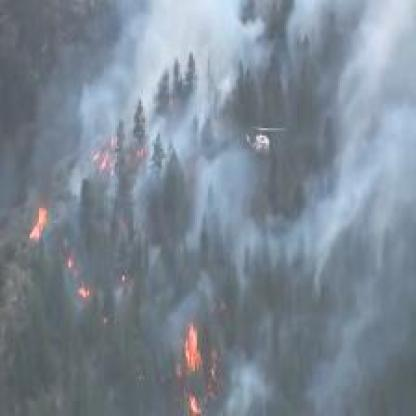fire: (3, 83, 290, 411)
smoke: (313, 4, 402, 277), (100, 0, 264, 115)
